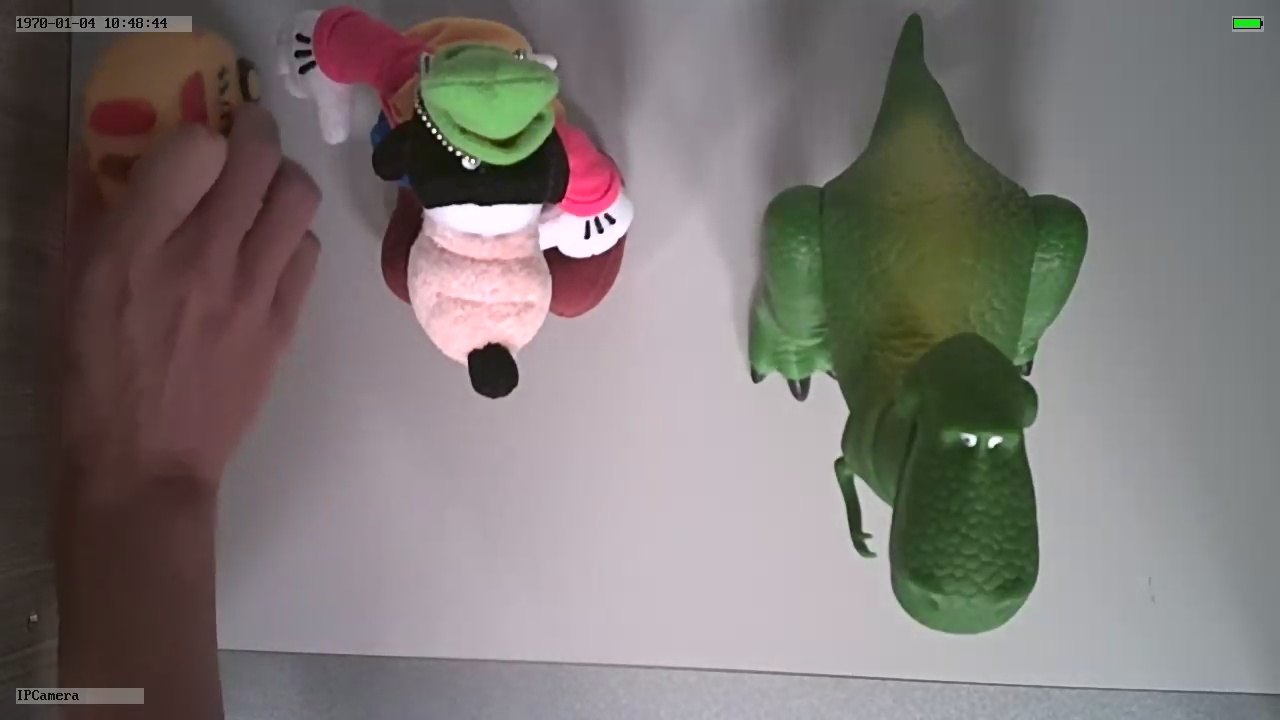goofy: (274, 3, 638, 399)
rex: (748, 94, 1091, 637)
